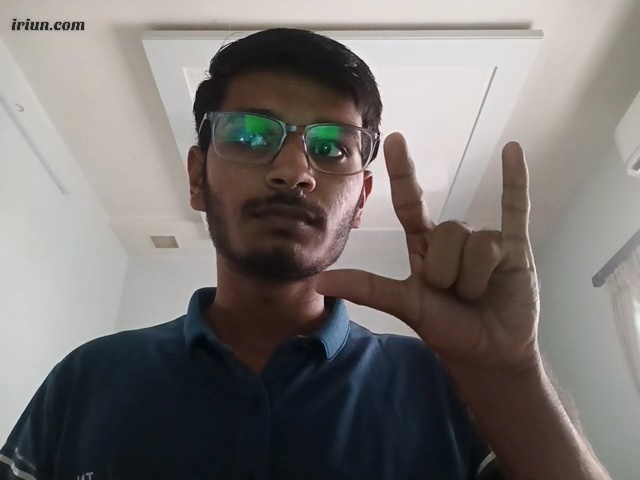I Love You: (309, 127, 569, 377)
